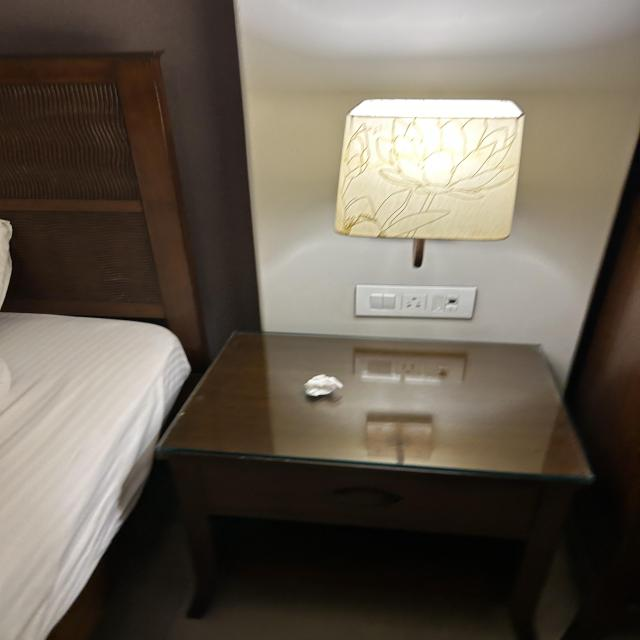mess: (182, 324, 616, 563)
